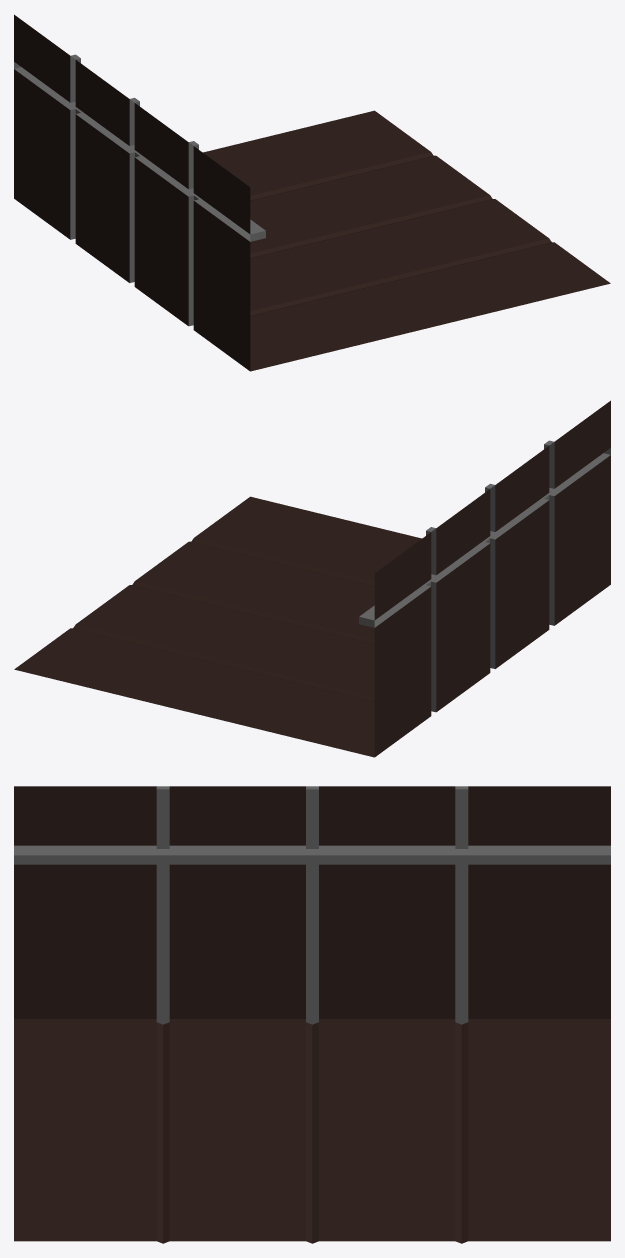
File: Hallway.fbx
3 views of the same model, one above another, from view 1: azimuth 30°, elevation 25°; view 2: azimuth 150°, elevation 25°; view 3: azimuth 270°, elevation 25° (orthographic). The views are drawn at different scales.
Parts seen in each view (by area): view 1: hallway; view 2: hallway; view 3: hallway.
Part boxes in pixels (x1,y1,x2,y2): hallway: (14,14,610,371); hallway: (14,400,610,757); hallway: (14,786,610,1243).
Bounding box in the file's own units: 80.58 × 39.74 × 91.42.
